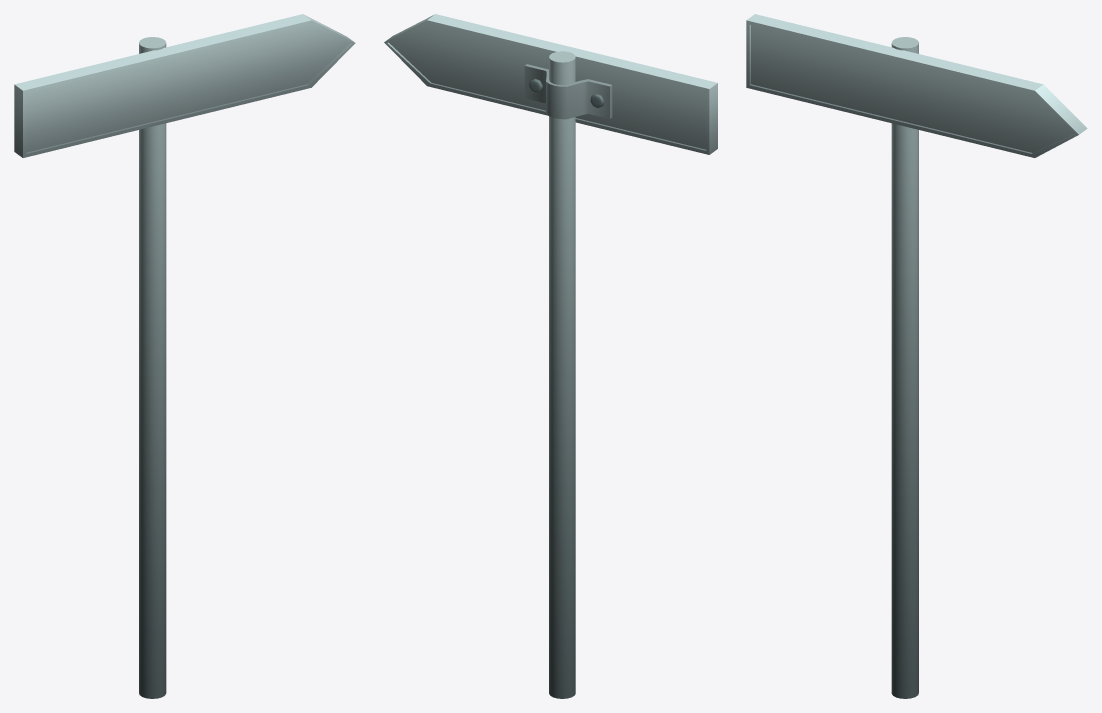
The model's file is panneau direction wip.fbx.
3 renders of one model, left to right at view 1: azimuth 30°, elevation 25°; view 2: azimuth 150°, elevation 25°; view 3: azimuth 330°, elevation 25°, orthographic. The views are drawn at different scales.
Parts seen in each view (by area): view 1: Panneau_Tige.004; view 2: Panneau_Tige.004; view 3: Panneau_Tige.004.
Boxes of the visible parts, x1,y1,x2,y2 form: Panneau_Tige.004: (14,14,355,698); Panneau_Tige.004: (384,14,717,698); Panneau_Tige.004: (746,14,1087,698).
Size of the model in its own units: 546 by 1020 by 65.53.
